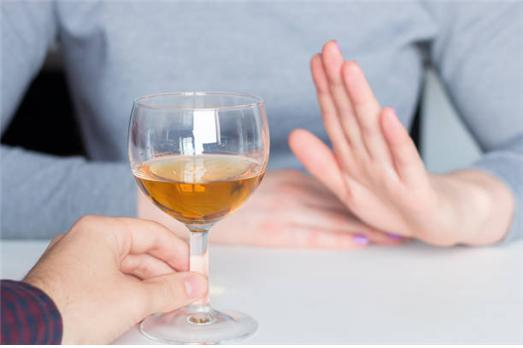alcohol: (125, 88, 270, 346)
